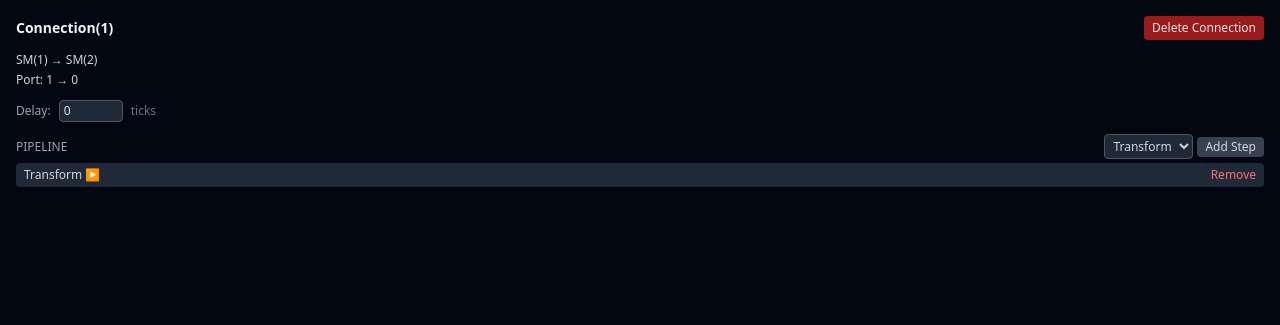
Test: ConnectionEditorPanel › Transform step shows field mapping editor
Click the button with aria-label "toggle step 0".
click(62, 175)  # box left=24, top=167, right=100, bottom=183
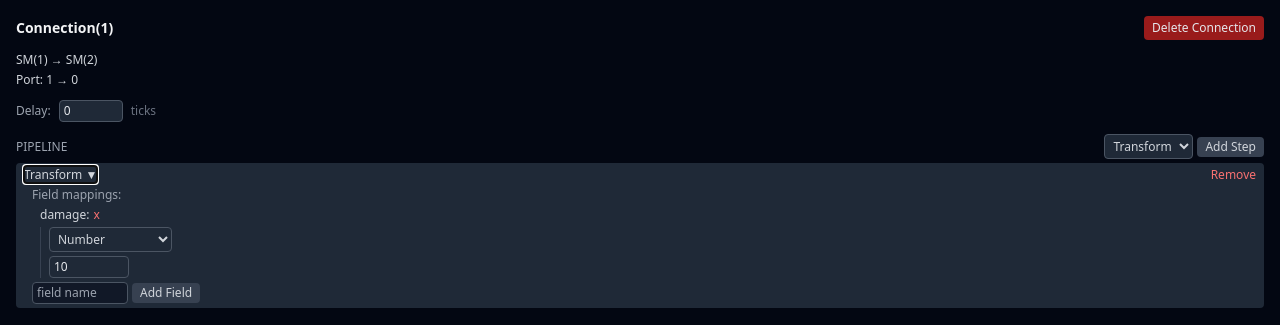
Expected: the text "damage:" is shown, left=40, top=207, right=89, bottom=223
